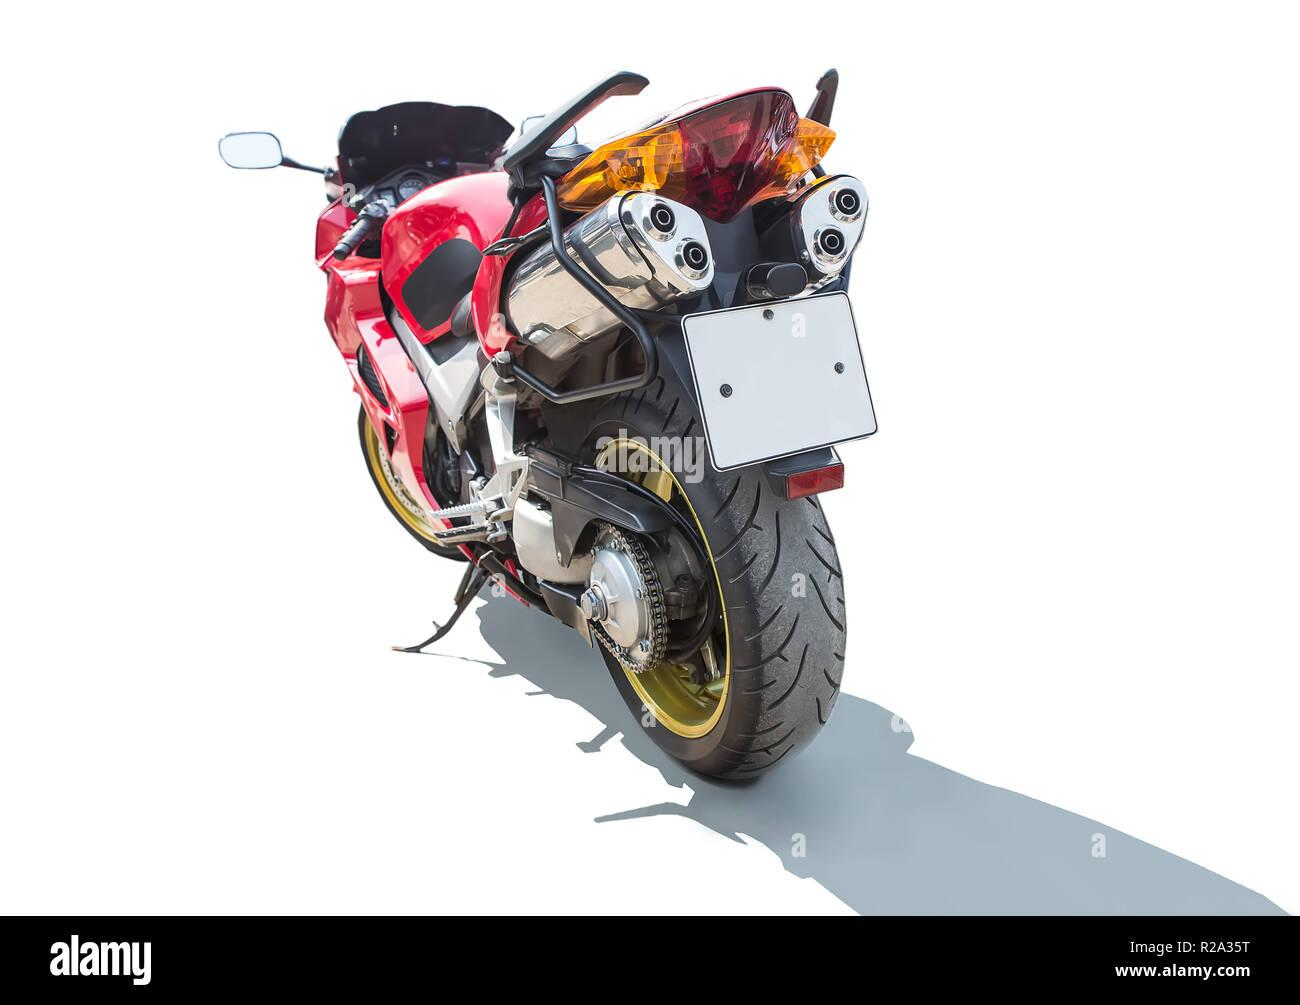motorcycle: (185, 60, 973, 799)
